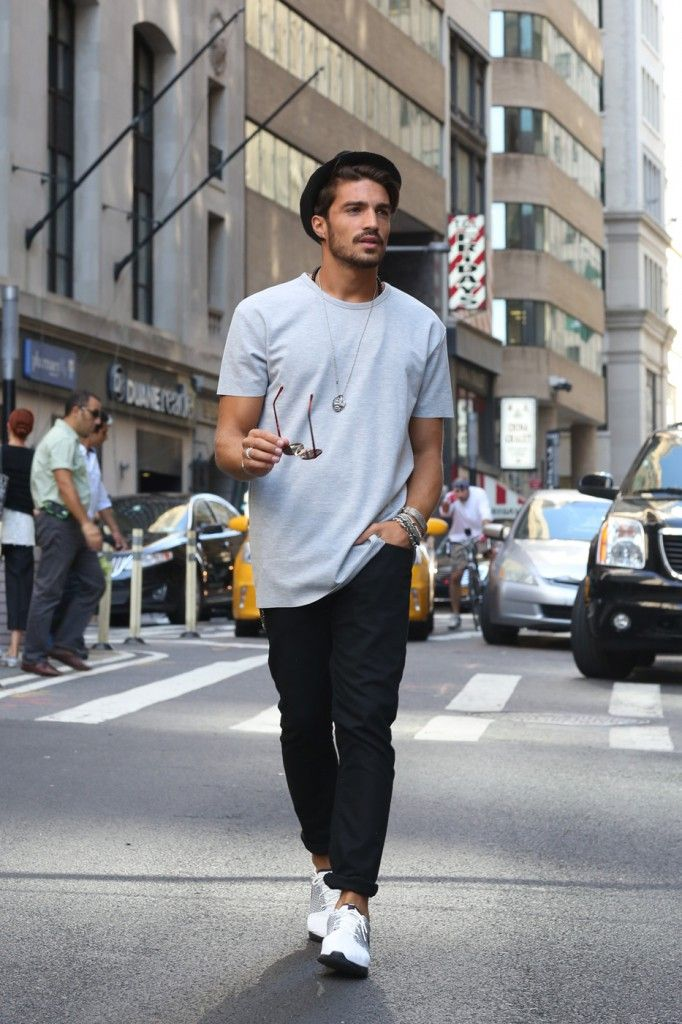car: (564, 420, 682, 678), (97, 492, 246, 613), (488, 478, 594, 643)
person: (207, 139, 474, 980), (31, 401, 109, 679), (9, 393, 44, 645)
